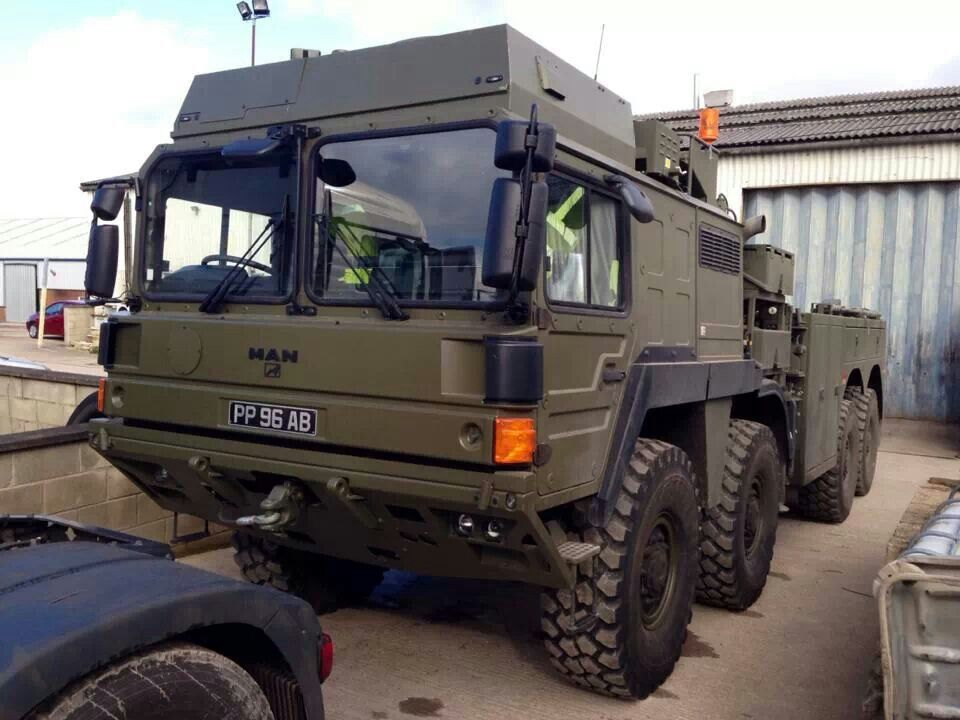license_plate: (228, 400, 324, 440)
